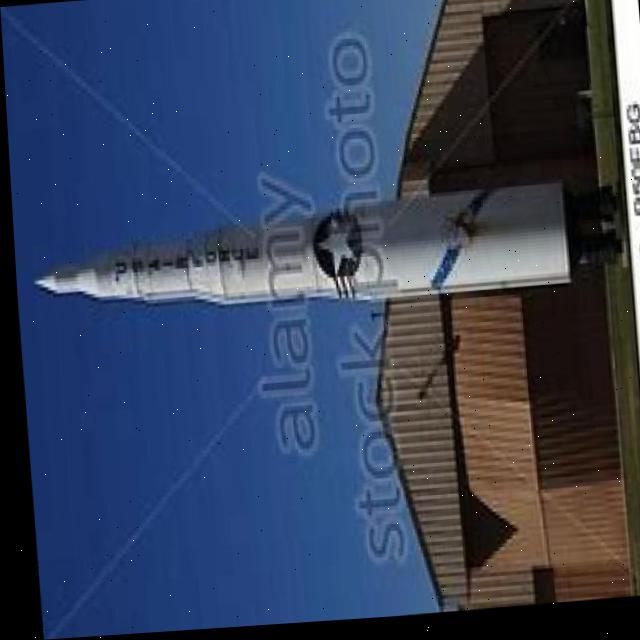missile: (26, 147, 633, 341)
